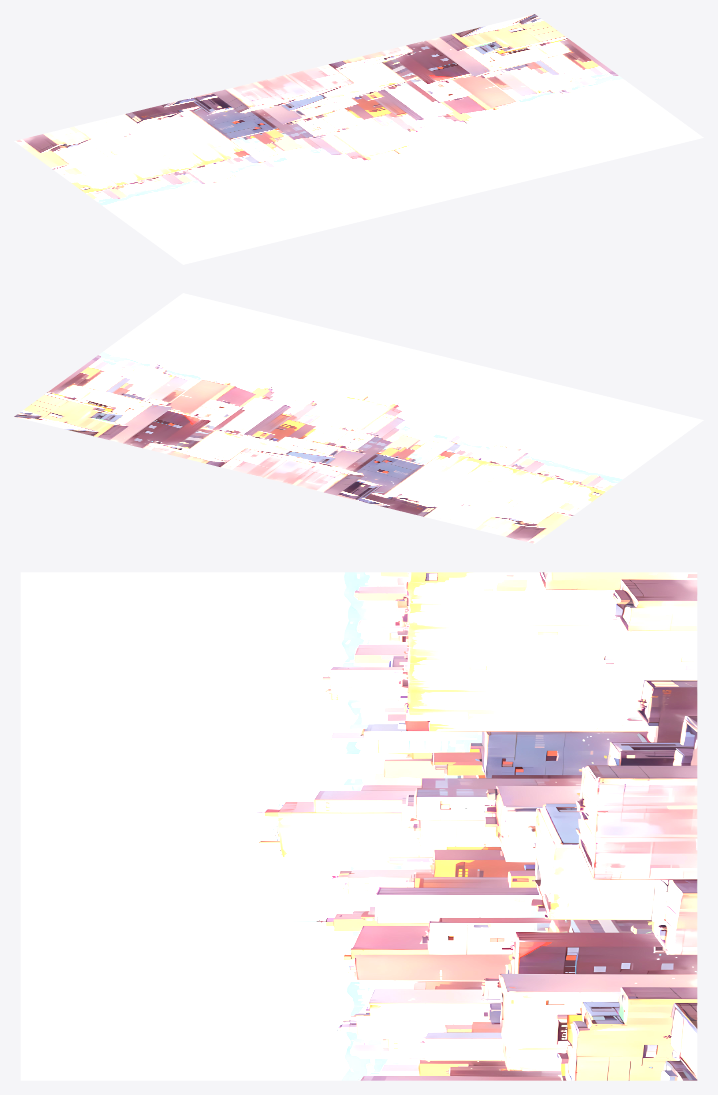
File: cs_city.glb
3 views of the same model, one above another, from view 1: azimuth 30°, elevation 25°; view 2: azimuth 150°, elevation 25°; view 3: azimuth 270°, elevation 25° (orthographic). The views are drawn at different scales.
Parts seen in each view (by area): view 1: 01; view 2: 01; view 3: 01.
Boxes of the visible parts, x1,y1,x2,y2 form: 01: [14, 14, 703, 264]; 01: [14, 293, 703, 543]; 01: [20, 572, 697, 1080].
Size of the model in its own units: 38.4 by 0 by 21.6.
Materials: 16 (16 with a texture image).
